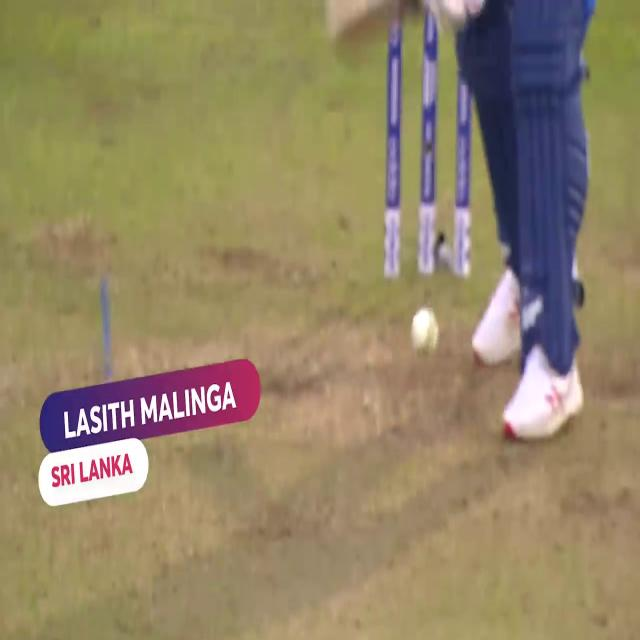ball: (408, 305, 440, 363)
